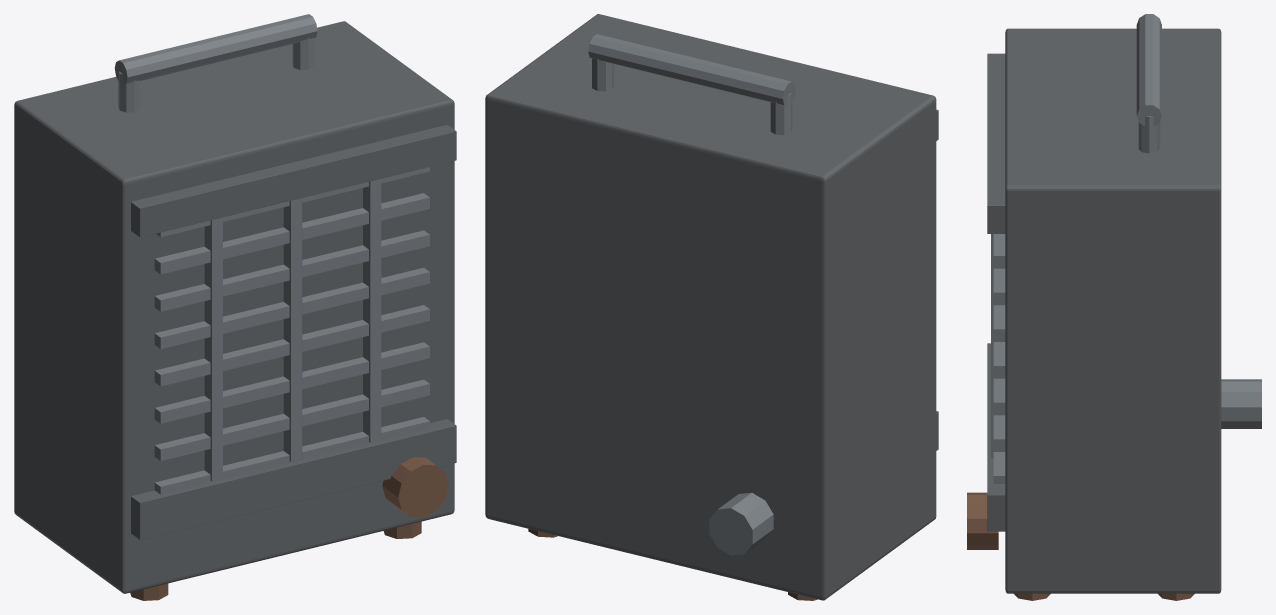
The model's file is Ch2_Heater.fbx.
The picture shows the model from 3 angles, left to right: view 1: azimuth 30°, elevation 25°; view 2: azimuth 150°, elevation 25°; view 3: azimuth 270°, elevation 25°; orthographic projection. The views are drawn at different scales.
Parts seen in each view (by area): view 1: Ch2_Heater; view 2: Ch2_Heater; view 3: Ch2_Heater.
Part boxes in pixels (bbox=[...]): Ch2_Heater: bbox=[14, 14, 456, 600]; Ch2_Heater: bbox=[485, 14, 938, 600]; Ch2_Heater: bbox=[967, 14, 1261, 600].
Bounding box in the file's own units: 0.42 × 0.5788 × 0.3275.
